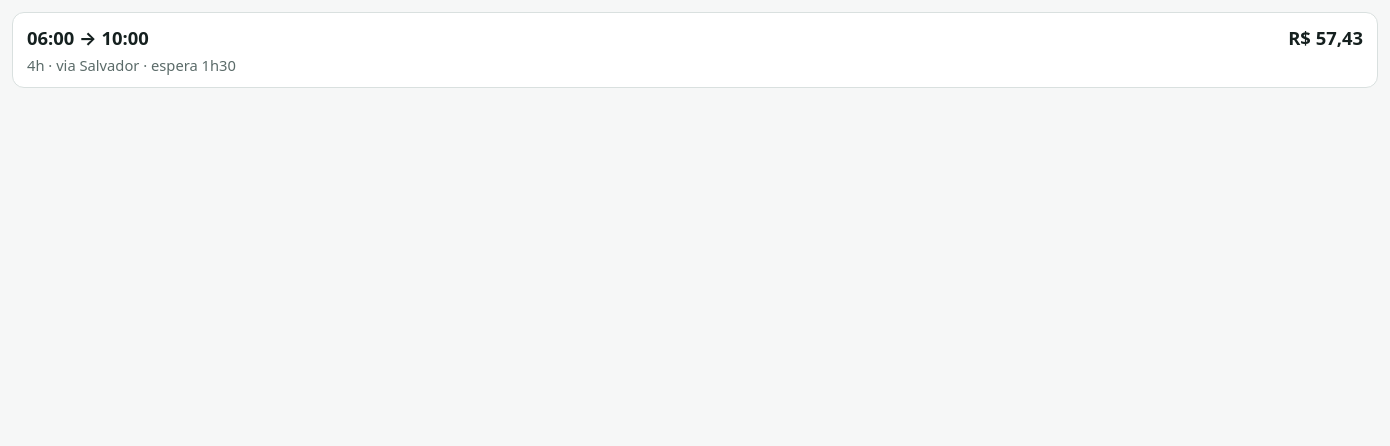
it: ConnectionCard › trecho só no Quero Passagem: badge da fonte e taxa
Click the button at (51,38), box x1=13 y1=13 x2=1377 y2=87
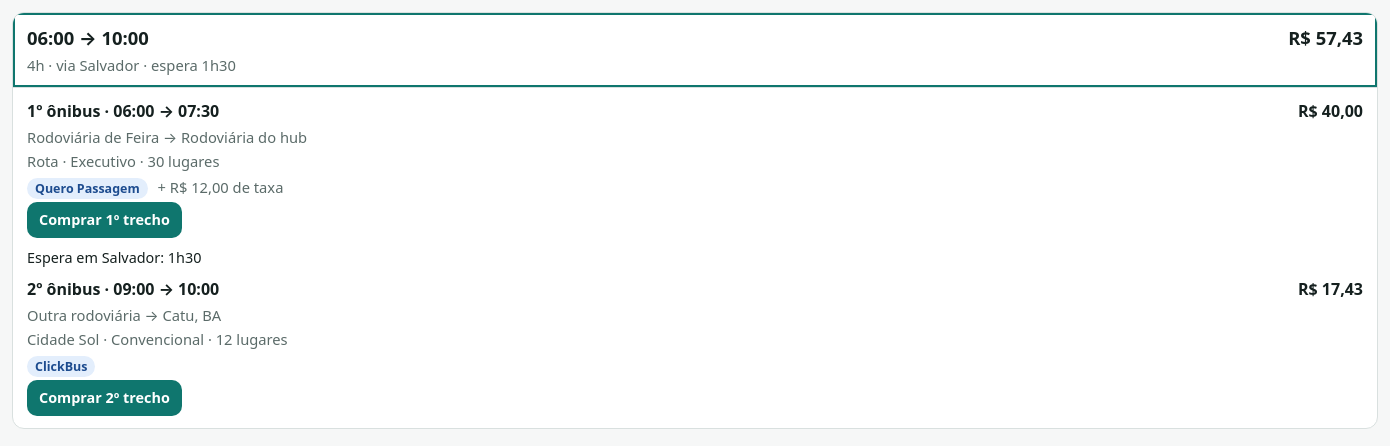
Expected: the text "+ R$ 12,00 de taxa" is shown, x1=154 y1=177 x2=283 y2=197
